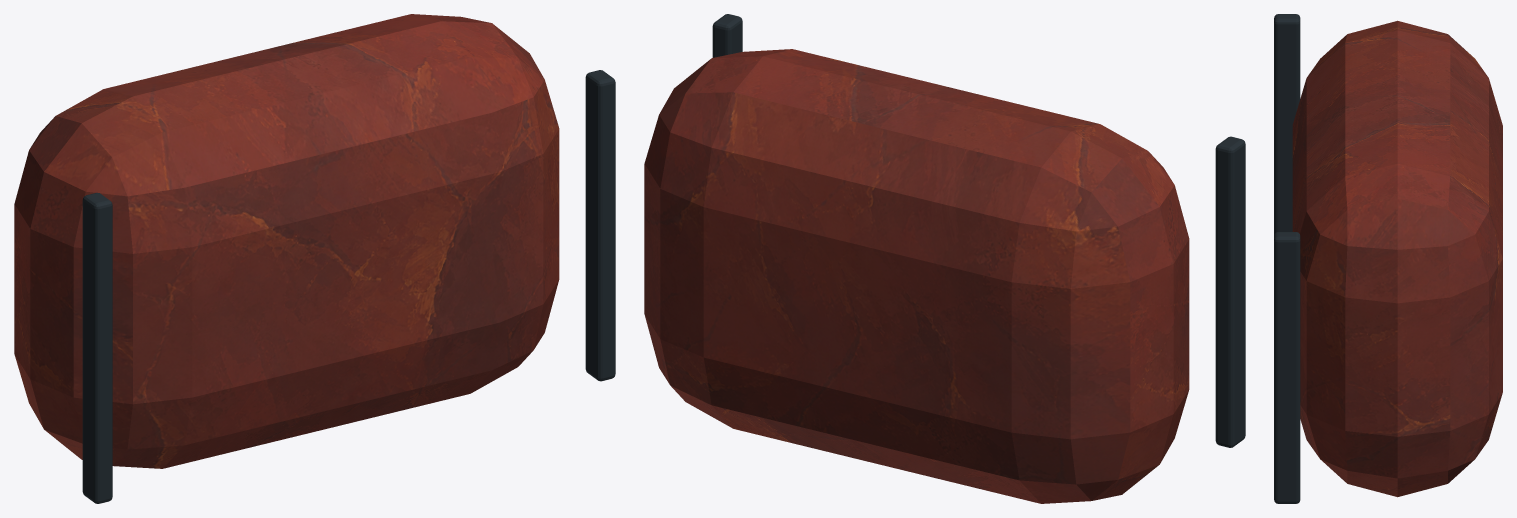
Rendered from APT_Prop_Pillow_Rust.glb.
The picture shows the model from 3 angles, left to right: view 1: azimuth 30°, elevation 25°; view 2: azimuth 150°, elevation 25°; view 3: azimuth 270°, elevation 25°; orthographic projection. The views are drawn at different scales.
Visible parts, largest first — view 1: APT_Prop_Pillow_Rust_Cushion, APT_Prop_Pillow_Rust_Seam_-0.245, APT_Prop_Pillow_Rust_Seam_0.245; view 2: APT_Prop_Pillow_Rust_Cushion, APT_Prop_Pillow_Rust_Seam_-0.245, APT_Prop_Pillow_Rust_Seam_0.245; view 3: APT_Prop_Pillow_Rust_Cushion, APT_Prop_Pillow_Rust_Seam_0.245, APT_Prop_Pillow_Rust_Seam_-0.245.
Boxes of the visible parts, left/top/right/bottom form: APT_Prop_Pillow_Rust_Cushion: left=14, top=14, right=559, bottom=468; APT_Prop_Pillow_Rust_Seam_-0.245: left=82, top=192, right=112, bottom=503; APT_Prop_Pillow_Rust_Seam_0.245: left=585, top=70, right=615, bottom=381; APT_Prop_Pillow_Rust_Cushion: left=644, top=49, right=1189, bottom=503; APT_Prop_Pillow_Rust_Seam_-0.245: left=1215, top=136, right=1245, bottom=447; APT_Prop_Pillow_Rust_Seam_0.245: left=712, top=14, right=742, bottom=57; APT_Prop_Pillow_Rust_Cushion: left=1292, top=20, right=1502, bottom=497; APT_Prop_Pillow_Rust_Seam_0.245: left=1274, top=232, right=1300, bottom=503; APT_Prop_Pillow_Rust_Seam_-0.245: left=1274, top=14, right=1300, bottom=235.
Size of the model in its own units: 0.508 by 0.34 by 0.2175.
Materials: 2 (1 with a texture image).
